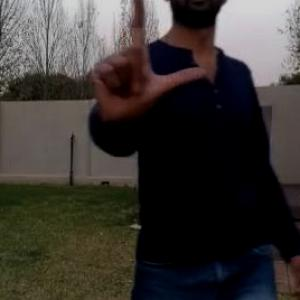land_hand: (83, 0, 209, 126)
